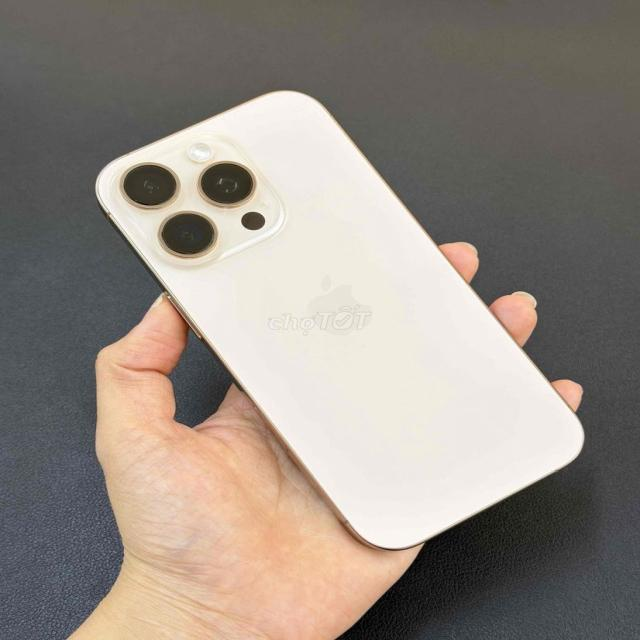gen_16: (96, 91, 583, 549)
